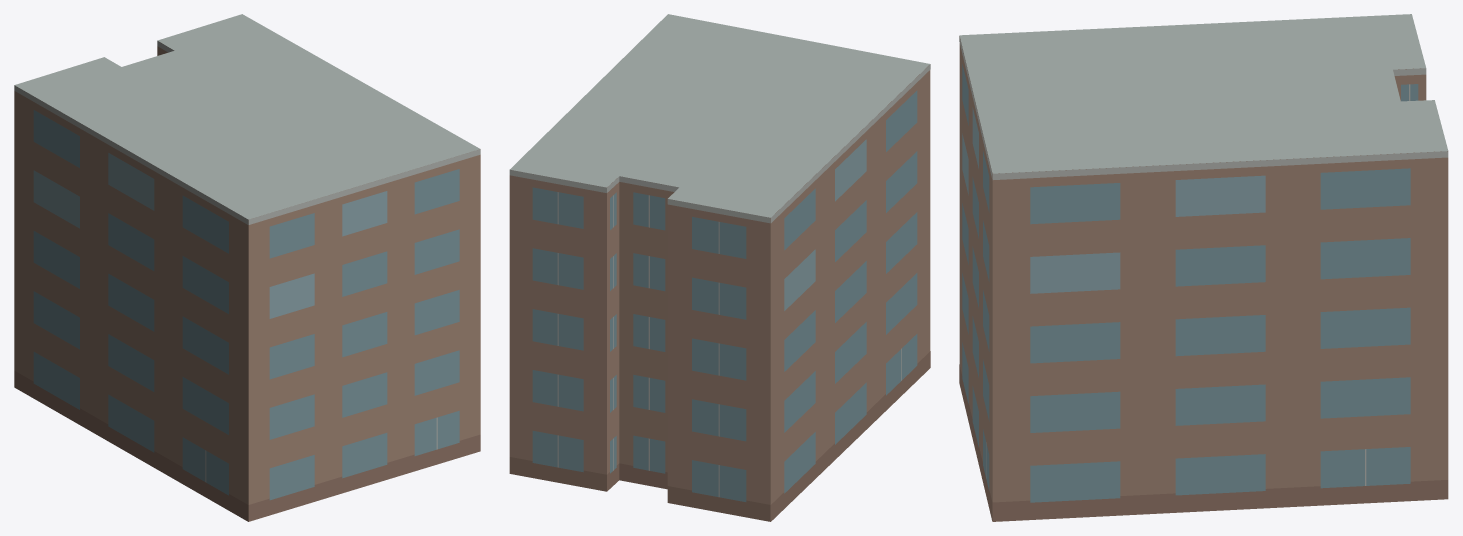
The model's file is survey-upis-32885117.glb.
The picture shows the model from 3 angles, left to right: view 1: azimuth 30°, elevation 25°; view 2: azimuth 150°, elevation 25°; view 3: azimuth 270°, elevation 25°; orthographic projection. The views are drawn at different scales.
Parts seen in each view (by area): view 1: survey-upis-32885117.tmp; view 2: survey-upis-32885117.tmp; view 3: survey-upis-32885117.tmp.
Boxes of the visible parts, x1=… form: survey-upis-32885117.tmp: x1=14, y1=14, x2=480, y2=521; survey-upis-32885117.tmp: x1=509, y1=14, x2=930, y2=521; survey-upis-32885117.tmp: x1=959, y1=14, x2=1448, y2=521.
Bounding box in the file's own units: 13 × 13.2 × 16.81.
